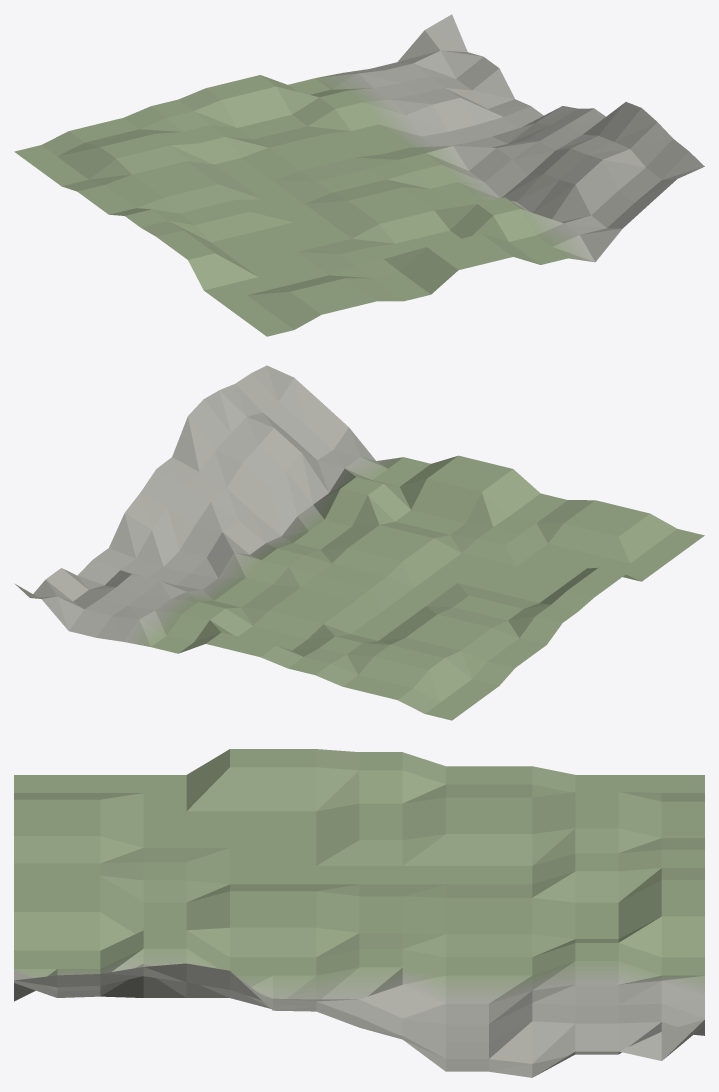
3 renders of one model, top to bottom at view 1: azimuth 30°, elevation 25°; view 2: azimuth 150°, elevation 25°; view 3: azimuth 270°, elevation 25°, orthographic. The views are drawn at different scales.
Size of the model in its own units: 32 by 6.08 by 32.
